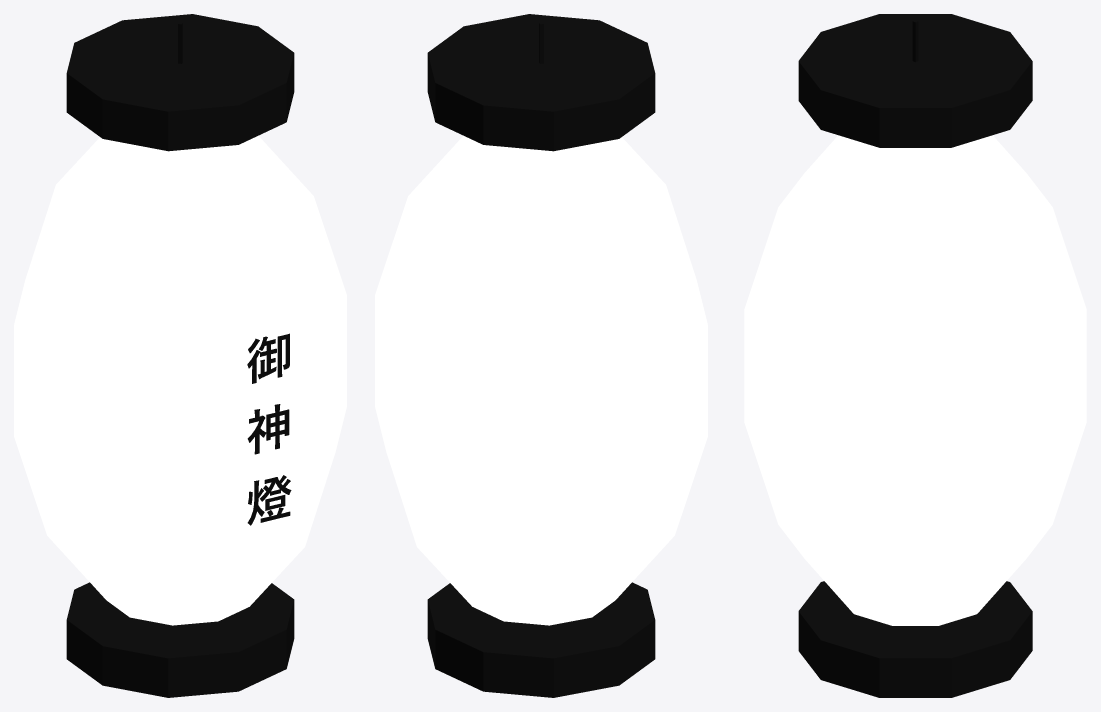
Rendered from lantern_paper.glb.
3 views of the same model, side by side, from view 1: azimuth 30°, elevation 25°; view 2: azimuth 150°, elevation 25°; view 3: azimuth 270°, elevation 25° (orthographic).
Parts seen in each view (by area): view 1: lantern_paper; view 2: lantern_paper; view 3: lantern_paper.
Part boxes in pixels (x1,y1,x2,y2): lantern_paper: (14,14,346,697); lantern_paper: (375,14,707,697); lantern_paper: (744,14,1086,697).
Size of the model in its own units: 0.4451 by 0.95 by 0.479.
2 materials, 2 textured.
